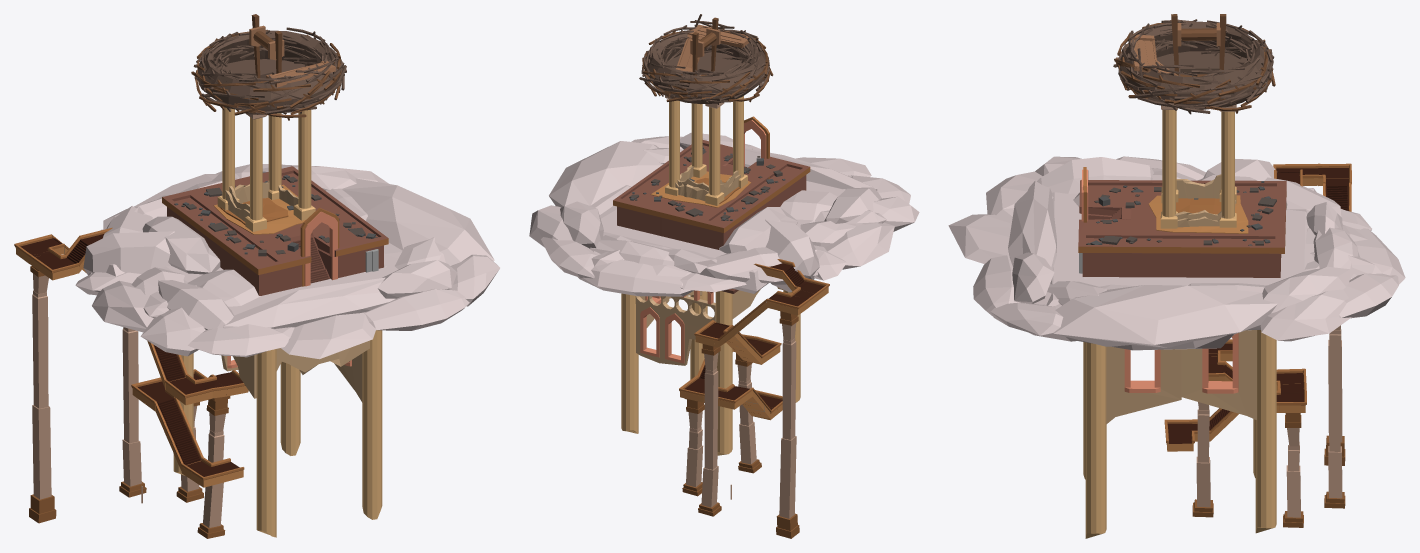
File: segment 4 los.fbx
3 renders of one model, left to right at view 1: azimuth 30°, elevation 25°; view 2: azimuth 150°, elevation 25°; view 3: azimuth 270°, elevation 25°, orthographic. The views are drawn at different scales.
Parts seen in each view (by area): view 1: segment_5; view 2: segment_5; view 3: segment_5.
Boxes of the visible parts, x1,y1,x2,y2 form: segment_5: (14, 14, 499, 538); segment_5: (529, 14, 919, 538); segment_5: (948, 14, 1405, 538).
Bounding box in the file's own units: 25.69 × 33.33 × 26.08.
